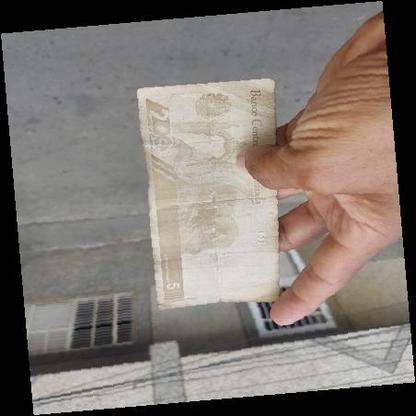five-back-vef: (138, 78, 280, 312)
